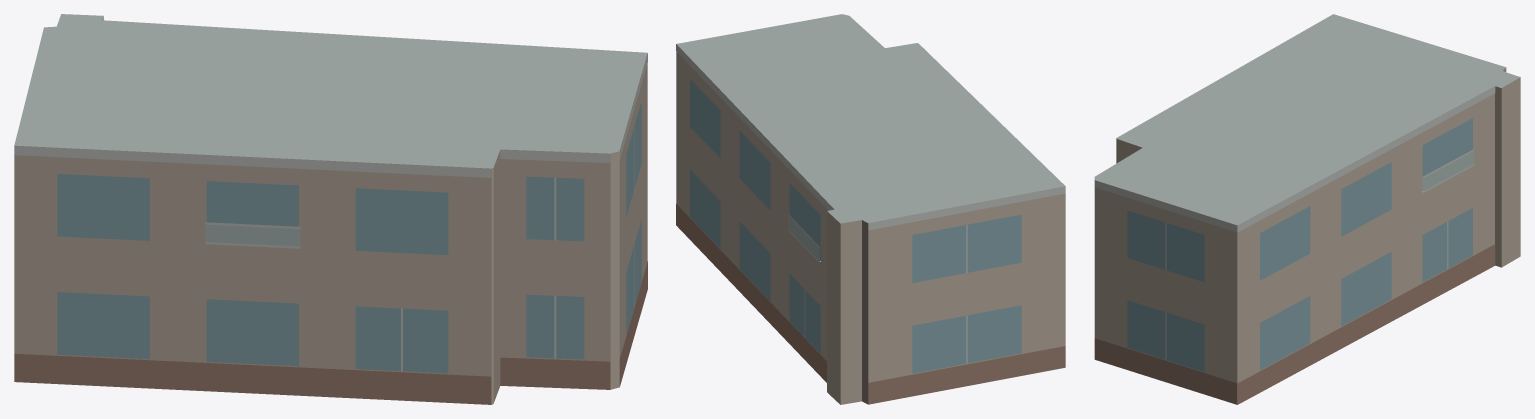
The model's file is survey-upis-32637327.glb.
3 views of the same model, side by side, from view 1: azimuth 30°, elevation 25°; view 2: azimuth 150°, elevation 25°; view 3: azimuth 270°, elevation 25° (orthographic). The views are drawn at different scales.
Visible parts, largest first — view 1: survey-upis-32637327.tmp; view 2: survey-upis-32637327.tmp; view 3: survey-upis-32637327.tmp.
Boxes of the visible parts, x1,y1,x2,y2 form: survey-upis-32637327.tmp: (14,14,647,404); survey-upis-32637327.tmp: (676,14,1065,404); survey-upis-32637327.tmp: (1094,14,1520,404).
Bounding box in the file's own units: 15.42 × 6.1 × 13.13.
